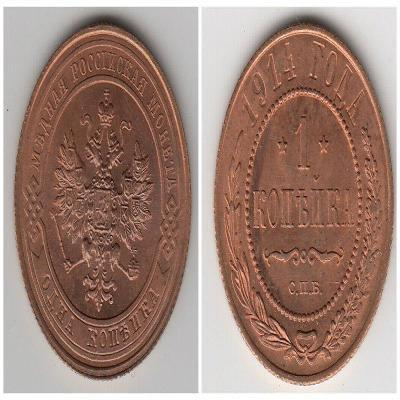numismatics: (214, 25, 393, 384), (15, 25, 191, 378)
